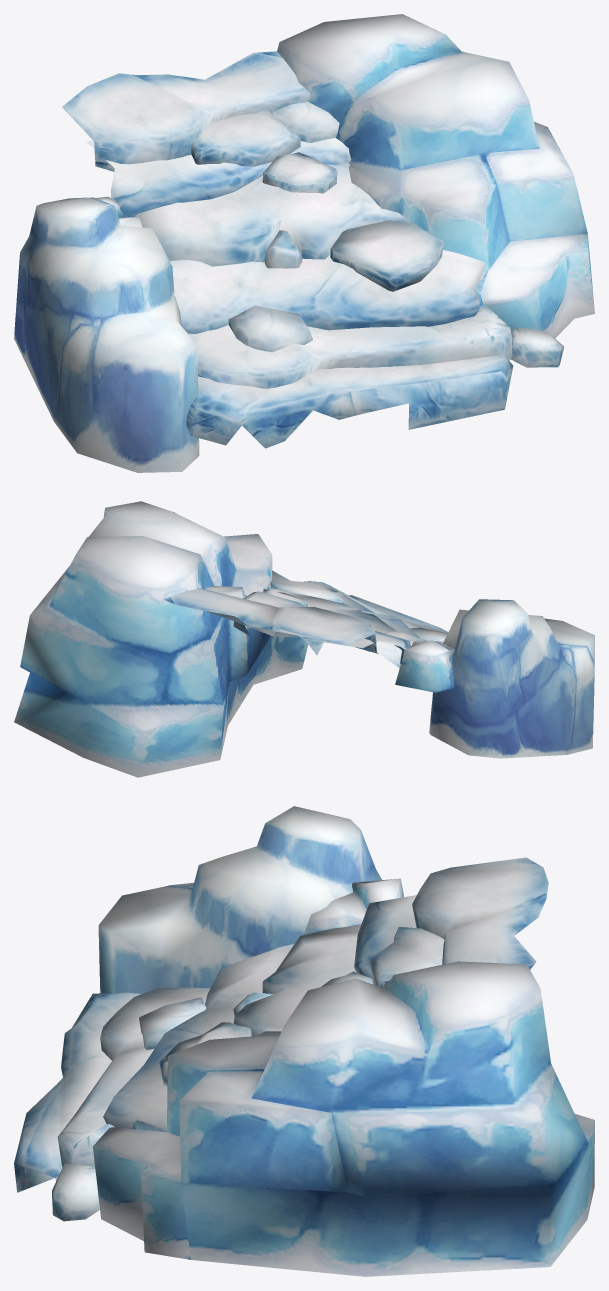
File: SM_Stairs_03.fbx
The picture shows the model from 3 angles, top to bottom: view 1: azimuth 30°, elevation 25°; view 2: azimuth 150°, elevation 25°; view 3: azimuth 270°, elevation 25°; orthographic projection. The views are drawn at different scales.
Parts seen in each view (by area): view 1: SM_Stairs_03; view 2: SM_Stairs_03; view 3: SM_Stairs_03.
Part boxes in pixels (x1,y1,x2,y2): SM_Stairs_03: (14, 14, 594, 472); SM_Stairs_03: (14, 501, 594, 777); SM_Stairs_03: (14, 806, 594, 1276).
Bounding box in the file's own units: 9.98 × 4.18 × 8.13.
